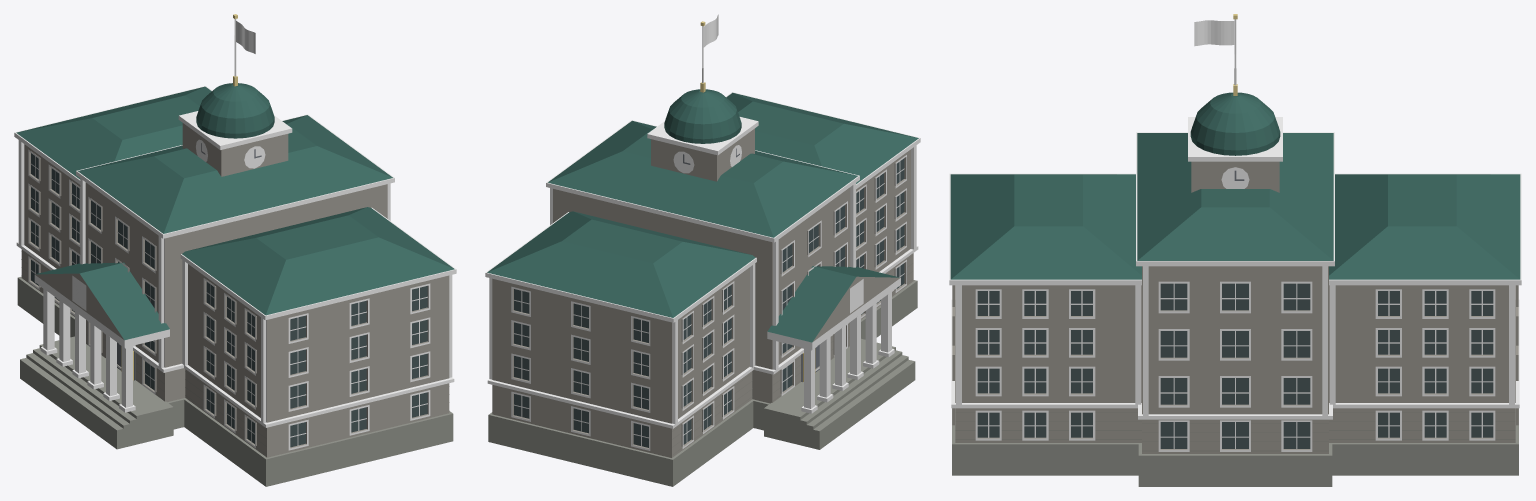
File: top-prebuilt_close.fbx
3 renders of one model, left to right at view 1: azimuth 30°, elevation 25°; view 2: azimuth 150°, elevation 25°; view 3: azimuth 270°, elevation 25°, orthographic. The views are drawn at different scales.
Parts seen in each view (by area): view 1: a100_CityHall_close; view 2: a100_CityHall_close; view 3: a100_CityHall_close.
Part boxes in pixels (left/top/right/bottom): a100_CityHall_close: left=14, top=14, right=456, bottom=486; a100_CityHall_close: left=485, top=14, right=920, bottom=486; a100_CityHall_close: left=949, top=14, right=1521, bottom=486.
Size of the model in its own units: 27.95 by 33.8 by 42.9.
